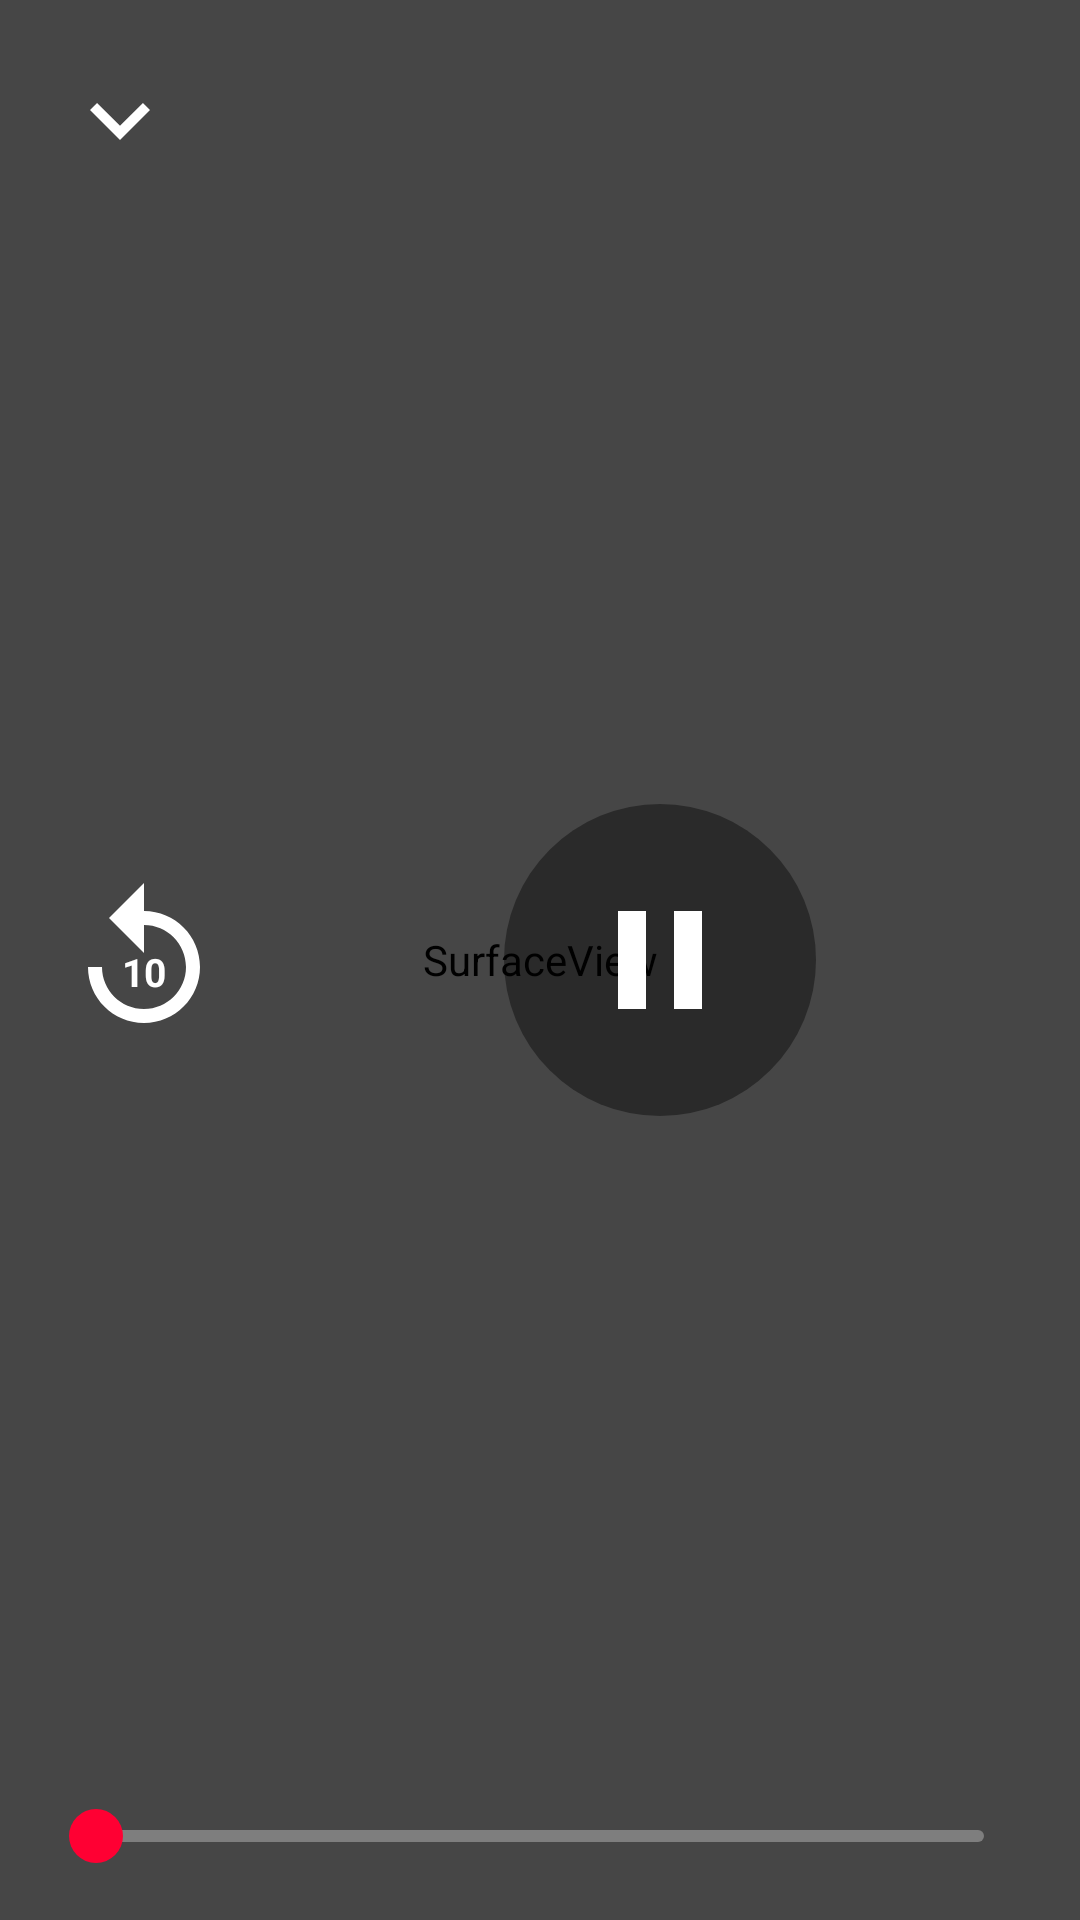

Screen size 1080×1920. Icon name, then its box in pixels as (x1,y1,x2,y2):
replay: (88,883,200,1023)
닫기: (90,103,150,140)
